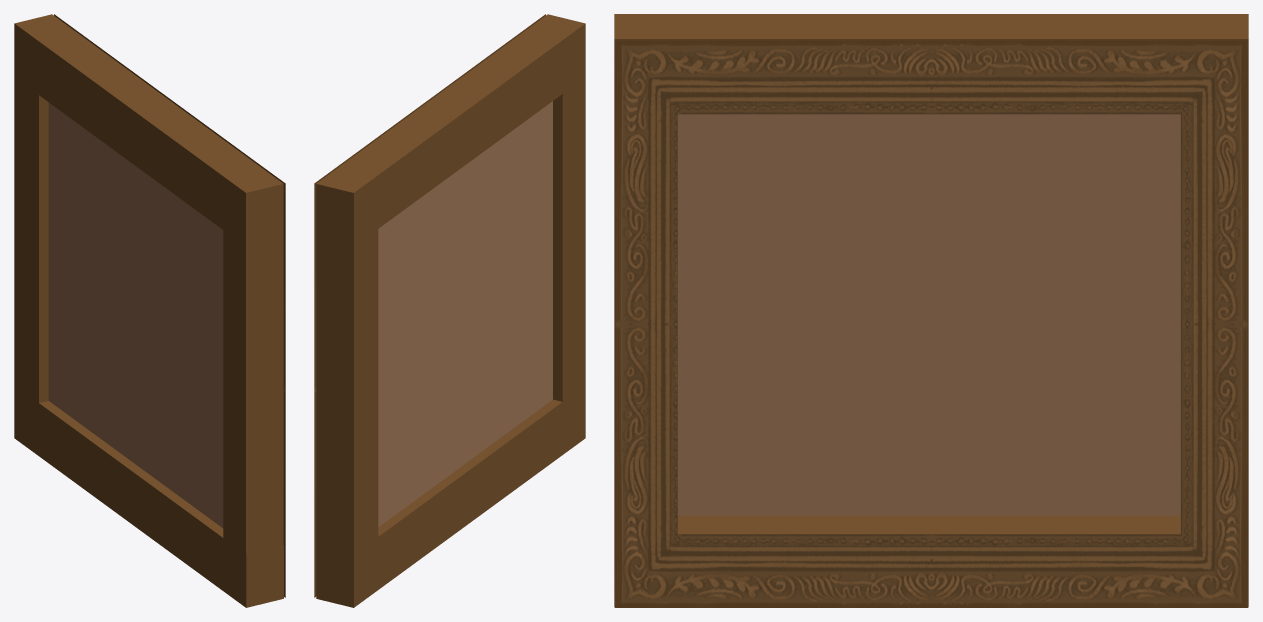
File: Kein_Bild_3.glb
The picture shows the model from 3 angles, left to right: view 1: azimuth 30°, elevation 25°; view 2: azimuth 150°, elevation 25°; view 3: azimuth 270°, elevation 25°; orthographic projection. The views are drawn at different scales.
Parts seen in each view (by area): view 1: Bilderrahmen_Kein_Bild.005; view 2: Bilderrahmen_Kein_Bild.005; view 3: Bilderrahmen_Kein_Bild.005.
Boxes of the visible parts, x1,y1,x2,y2 form: Bilderrahmen_Kein_Bild.005: (14, 14, 285, 607); Bilderrahmen_Kein_Bild.005: (314, 14, 585, 607); Bilderrahmen_Kein_Bild.005: (614, 14, 1248, 607).
Size of the model in its own units: 0.2556 by 2.56 by 2.59.
3 materials, 1 textured.
